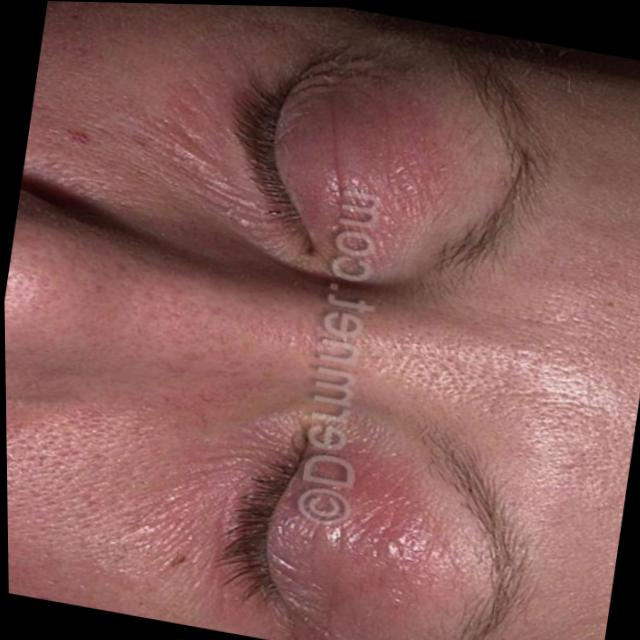Eczema: (0, 30, 281, 557), (286, 357, 472, 625), (293, 14, 478, 247)
